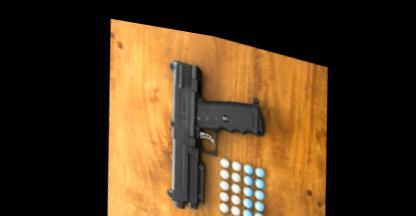pistol: (150, 48, 275, 213)
